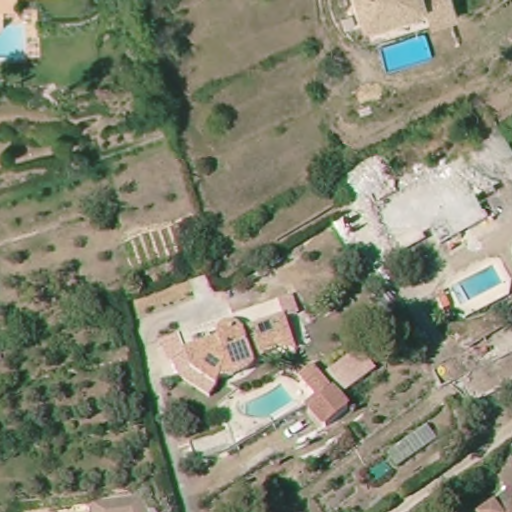pool: (374, 33, 436, 76), (449, 265, 505, 305), (238, 382, 294, 419), (1, 16, 38, 61)
